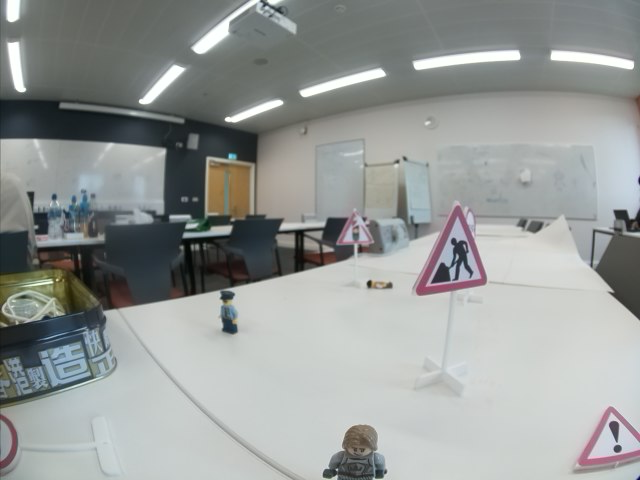Lego Man: (323, 424, 388, 480), (217, 290, 240, 335), (366, 278, 394, 289)
Roadworks: (410, 203, 495, 296)
Traffic lights: (336, 207, 376, 246)
Warning: (575, 406, 640, 472)
